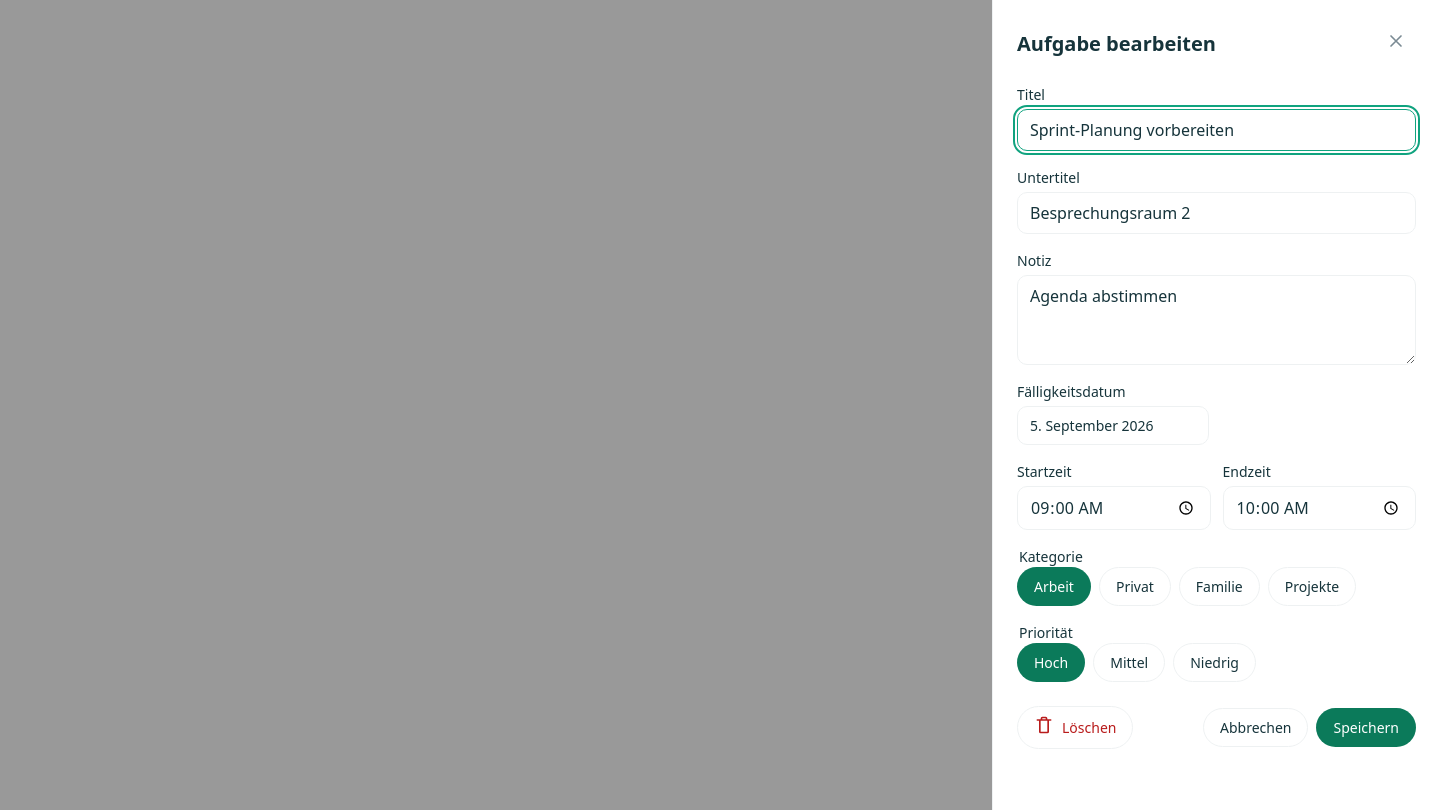
TaskDetailPanelComponent › Validierung › shows a field-linked error and does not save when endTime is before startTime
Replace the text in the time field with id "task-detail-panel-end-time" with "08:00". click: (1319, 508)
box: x1=1222 y1=486 x2=1416 y2=530
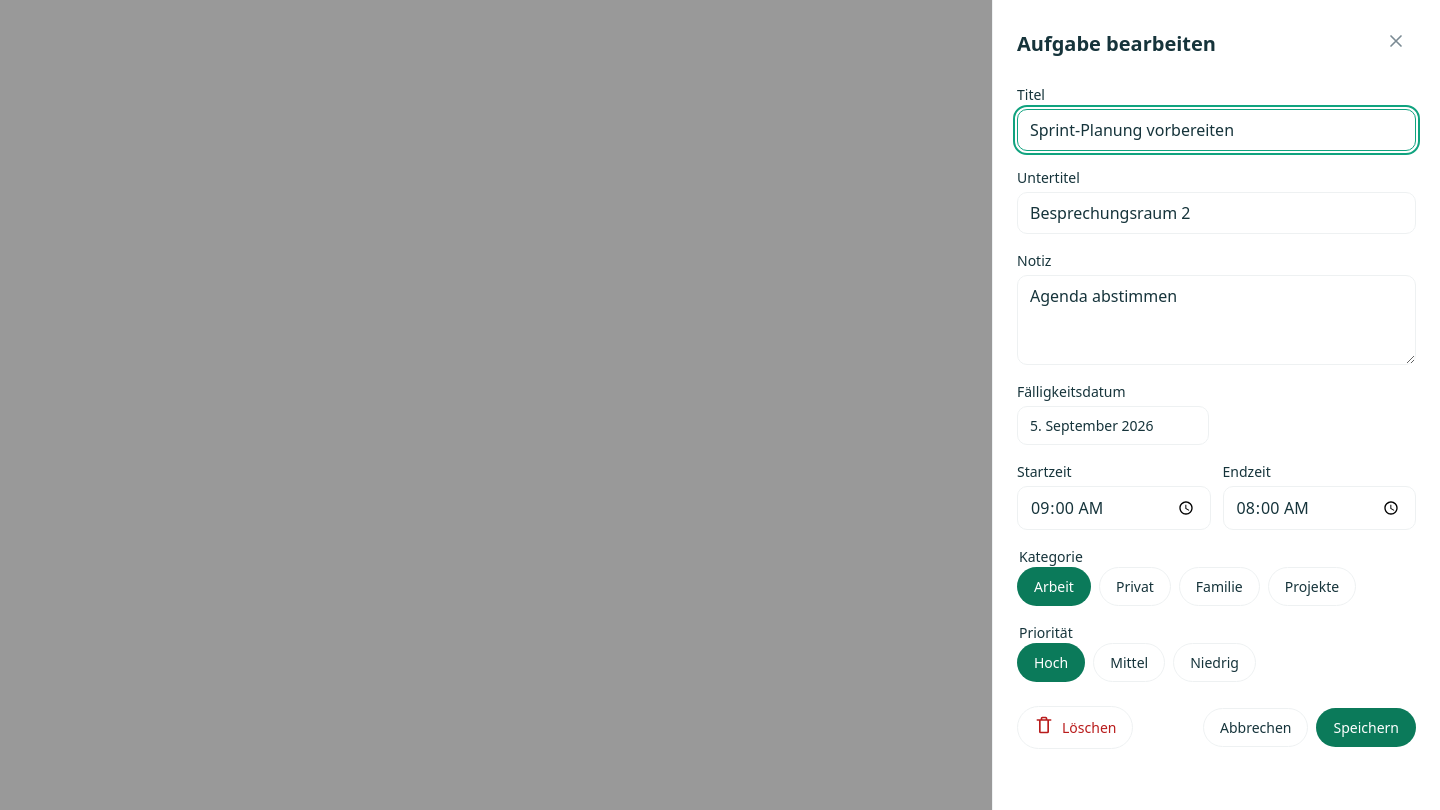
Submit the form, box x1=993 y1=64 x2=1439 y2=773
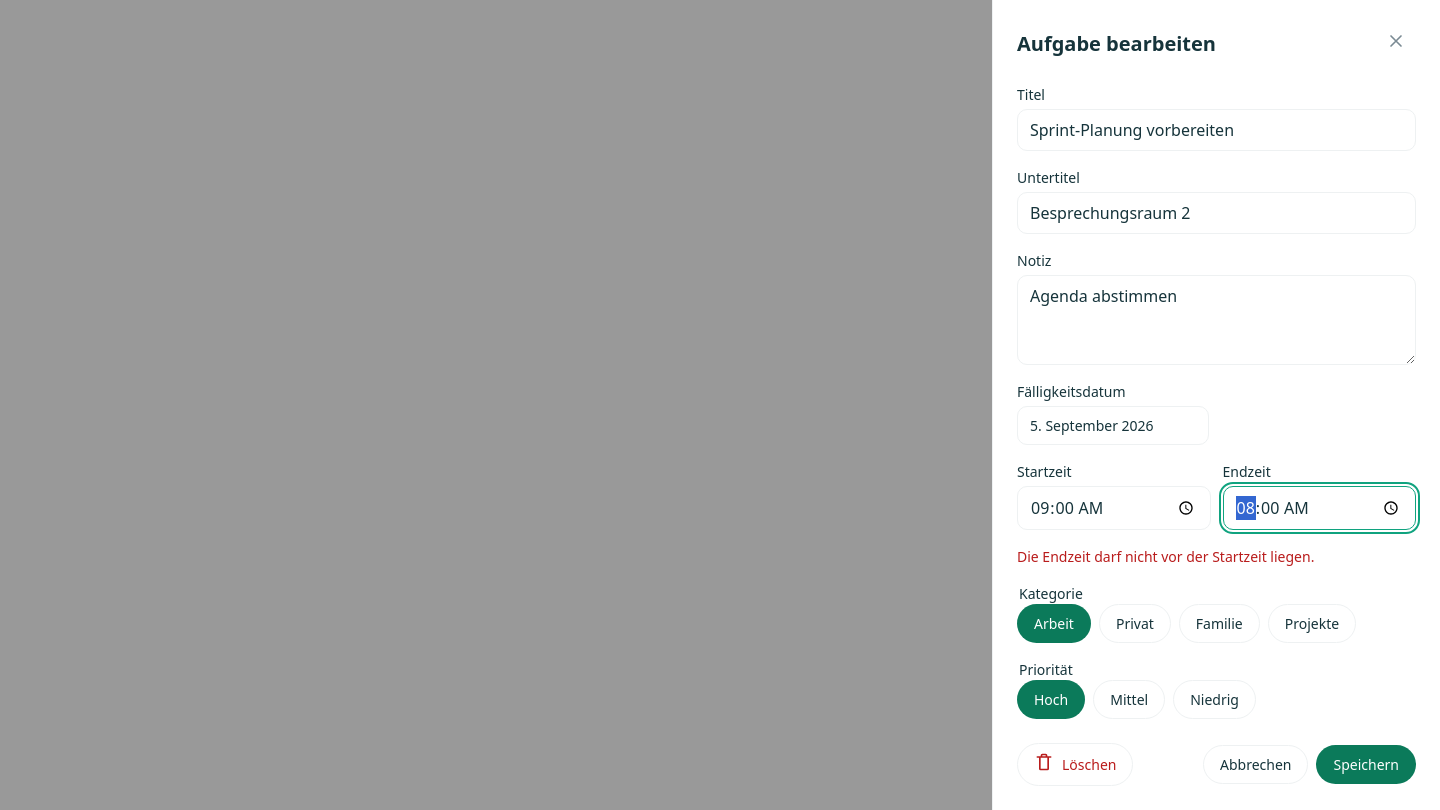
Check: the message "Die Endzeit darf nicht vor der Startzeit liegen." is shown, box x1=1017 y1=547 x2=1314 y2=566
